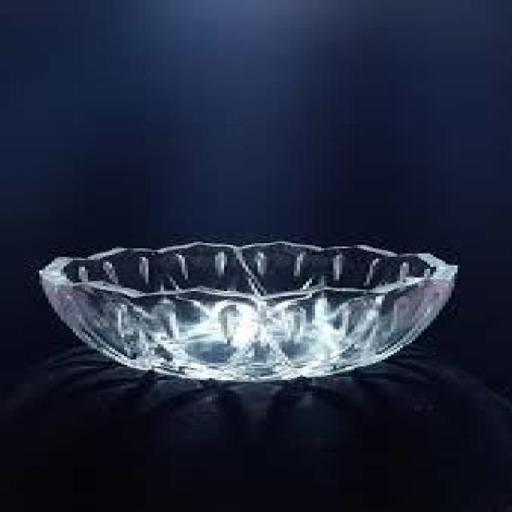glass: (4, 224, 494, 406)
